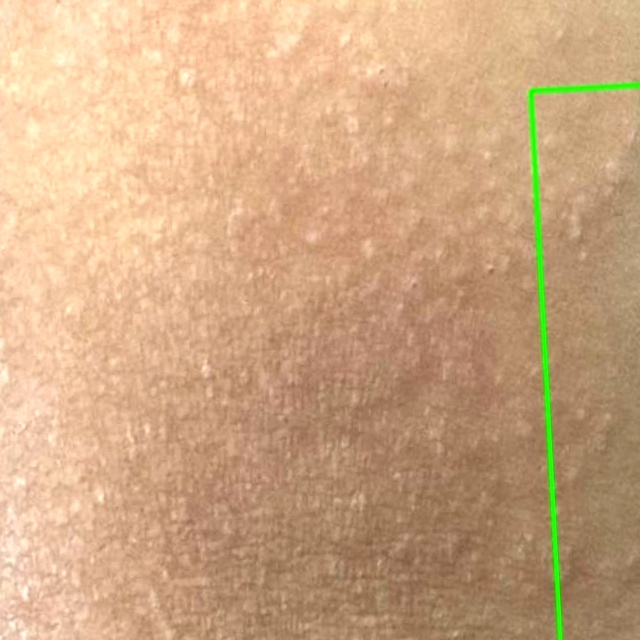Contact Dermatitis: (529, 84, 639, 639)
